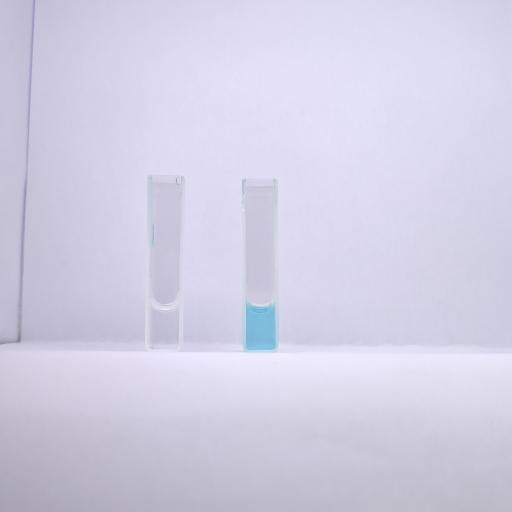cuvette: (146, 174, 186, 353), (240, 176, 280, 354)
liquid: (150, 302, 179, 348), (246, 304, 275, 348)
